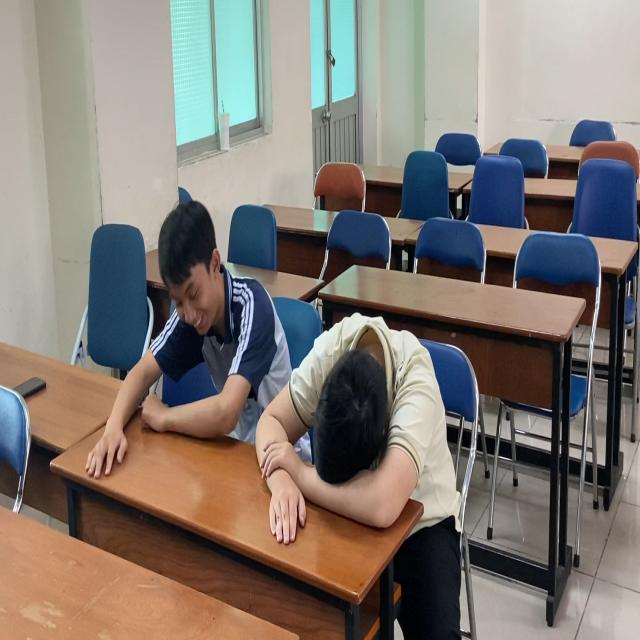sleep: (256, 307, 462, 541)
